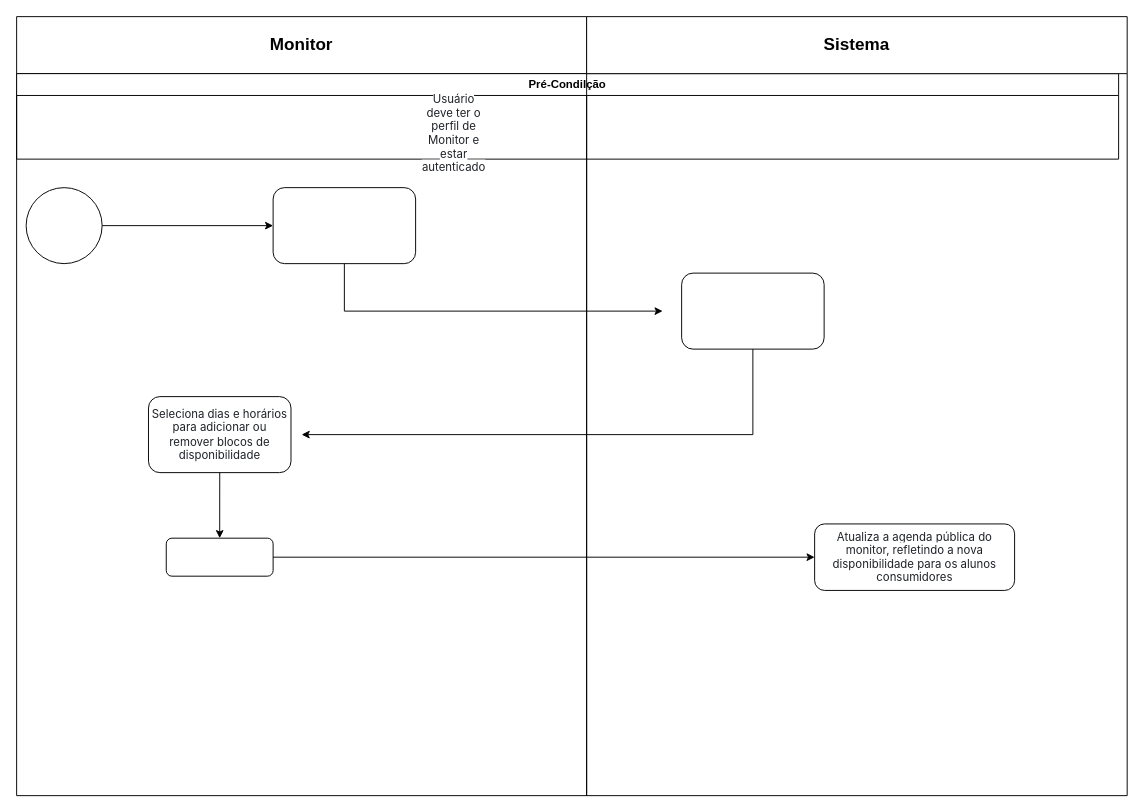
Image size: 1144x812. Some labels were removed from this diagram. The shapes that lost their labels are listed below. From the top down, each one's centre as x and y in pixels, then its label:
(x=344, y=225): Acessa seu painel e seleciona a opção "Gerenciar Minha Agenda"
(x=752, y=310): Exibe uma interface de calendário
(x=219, y=556): Salva as alterações
